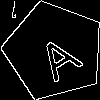A: (29, 26, 85, 83)
